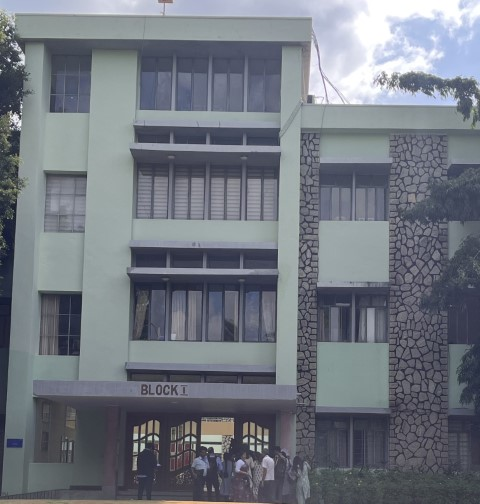Block 1: (10, 2, 480, 504)
